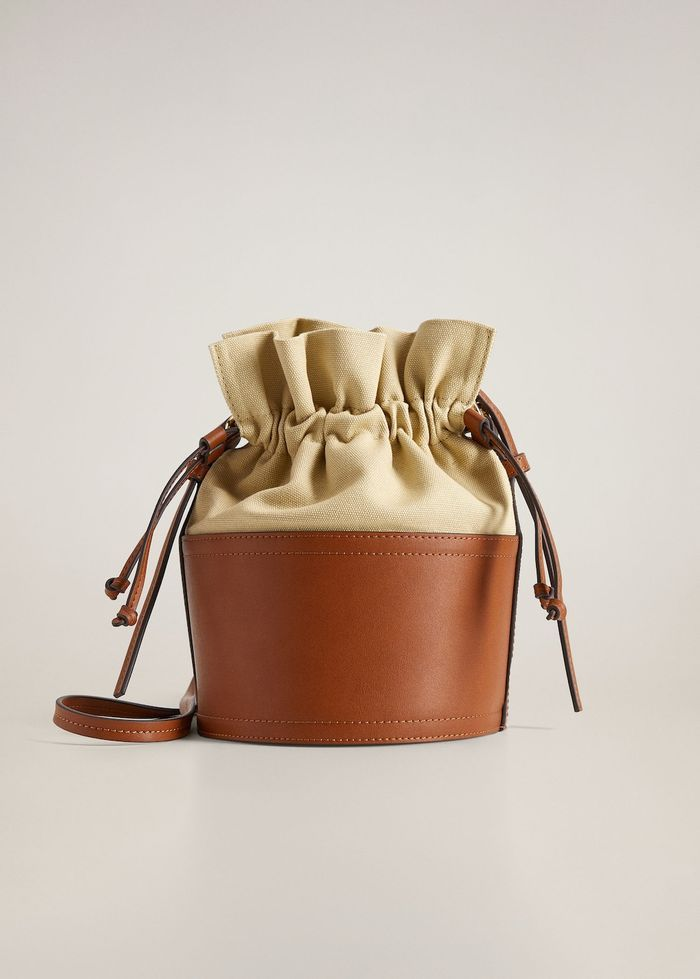cuero: (46, 390, 586, 748)
